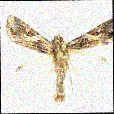Spodoptera litura: (4, 13, 113, 104)
